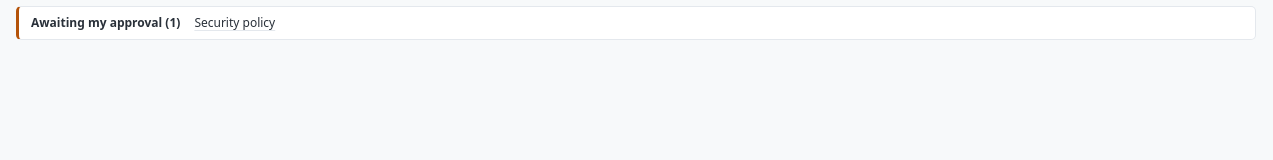
Test: unexpected tenant or record response fails closed
Click the button "Security policy". click: (235, 23)
box: [194,14,275,32]
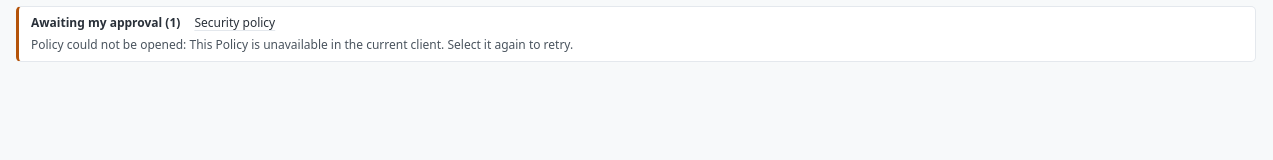
Expected: the message shows "unavailable", [190,36,444,53]
